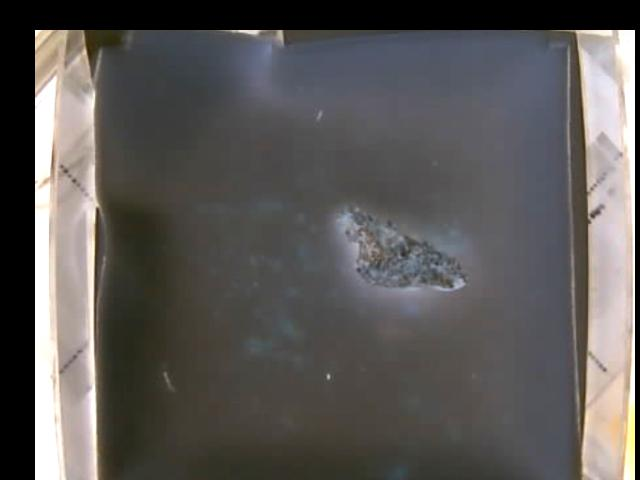Brisk: (339, 204, 470, 296)
